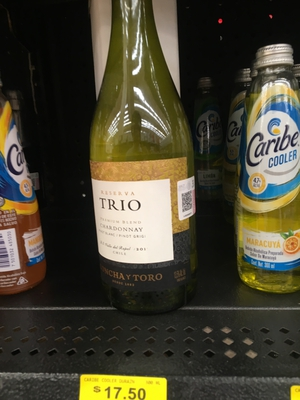trio chardonnay: (84, 13, 210, 320)
